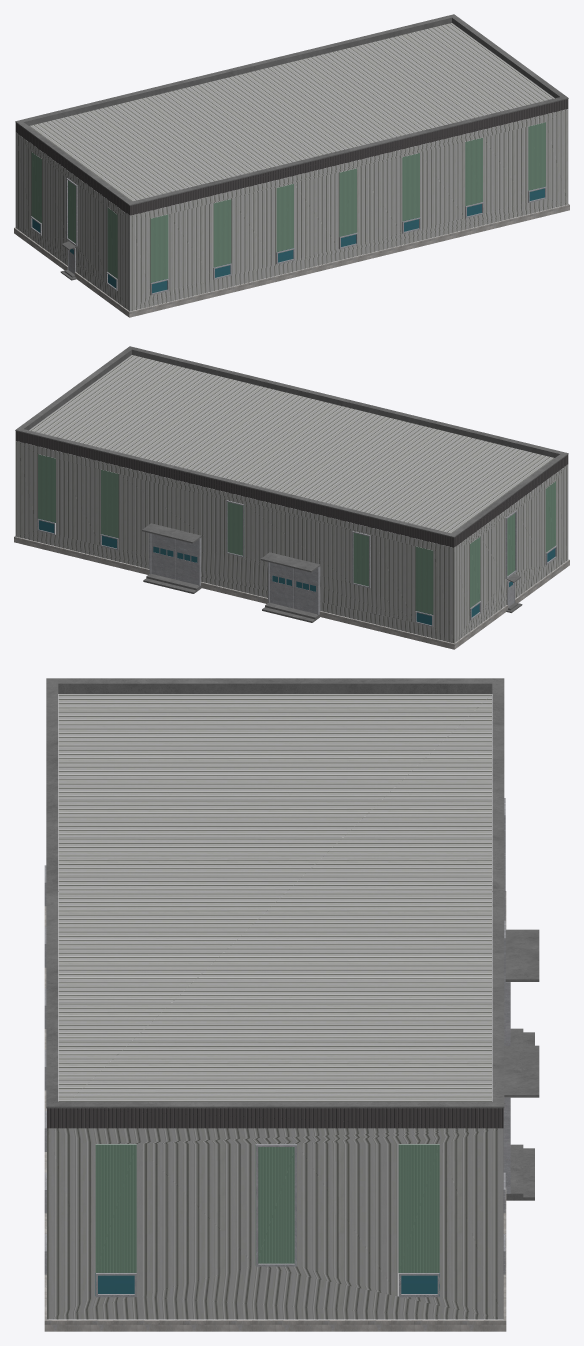
The model's file is 膨润土车间.glb.
3 renders of one model, top to bottom at view 1: azimuth 30°, elevation 25°; view 2: azimuth 150°, elevation 25°; view 3: azimuth 270°, elevation 25°, orthographic. The views are drawn at different scales.
Visible parts, largest first — view 1: 膨润土车间001, 膨润土车间003, 膨润土车间006, 膨润土车间002, 膨润土车间007, 膨润土车间005, 膨润土车间004; view 2: 膨润土车间001, 膨润土车间006, 膨润土车间003, 膨润土车间002, 膨润土车间005, 膨润土车间007, 膨润土车间004; view 3: 膨润土车间001, 膨润土车间006, 膨润土车间003, 膨润土车间002, 膨润土车间007, 膨润土车间005, 膨润土车间004.
Part boxes in pixels (x1,y1,x2,y2): 膨润土车间001: (15, 23, 568, 311); 膨润土车间003: (31, 122, 545, 282); 膨润土车间006: (15, 14, 568, 280); 膨润土车间002: (15, 99, 568, 215); 膨润土车间007: (14, 204, 569, 317); 膨润土车间005: (30, 178, 546, 295); 膨润土车间004: (32, 187, 544, 293); 膨润土车间001: (15, 355, 568, 643); 膨润土车间006: (15, 346, 568, 622); 膨润土车间003: (38, 454, 555, 614); 膨润土车间002: (15, 431, 568, 547); 膨润土车间005: (37, 500, 556, 626); 膨润土车间007: (14, 536, 569, 649); 膨润土车间004: (38, 518, 555, 625); 膨润土车间001: (47, 694, 503, 1319); 膨润土车间006: (46, 678, 539, 1200); 膨润土车间003: (95, 1144, 439, 1272); 膨润土车间002: (47, 1108, 503, 1128); 膨润土车间007: (44, 891, 506, 1331); 膨润土车间005: (44, 798, 510, 1297); 膨润土车间004: (95, 1273, 439, 1295).
Bounding box in the file's own units: 44.43 × 10.77 × 21.34.
7 materials, 7 textured.
